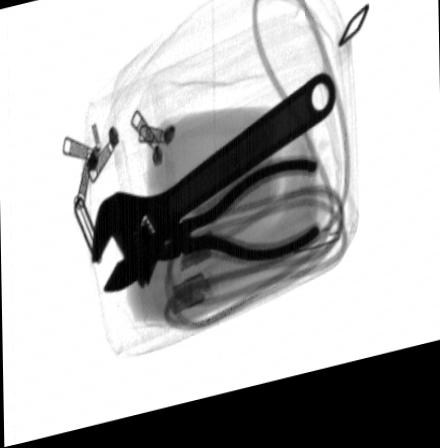Pliers: (138, 167, 322, 274)
Wrench: (90, 81, 336, 301)
